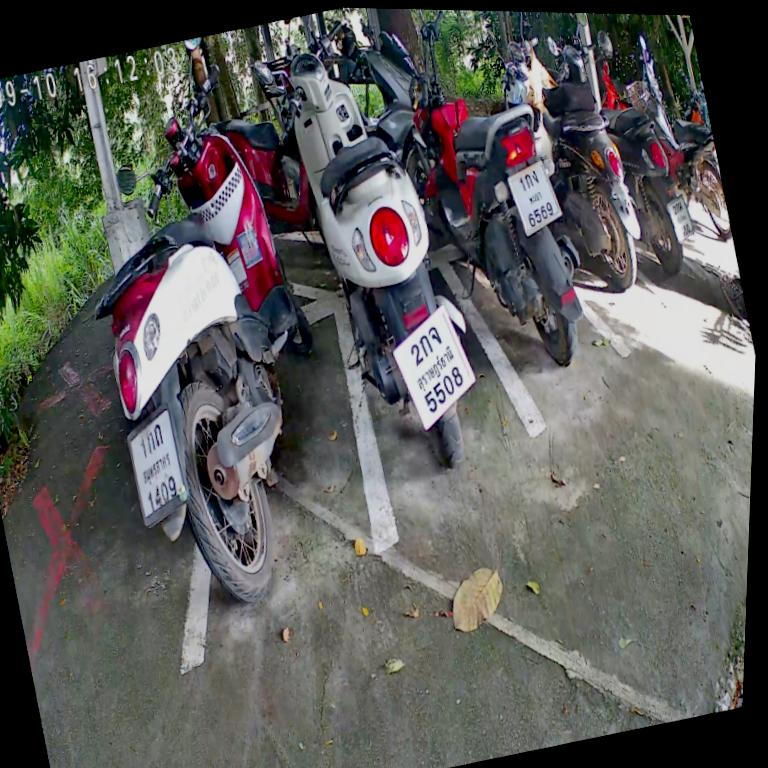license plate: (370, 292, 496, 446), (108, 393, 206, 537), (492, 145, 575, 251), (654, 178, 707, 252)
